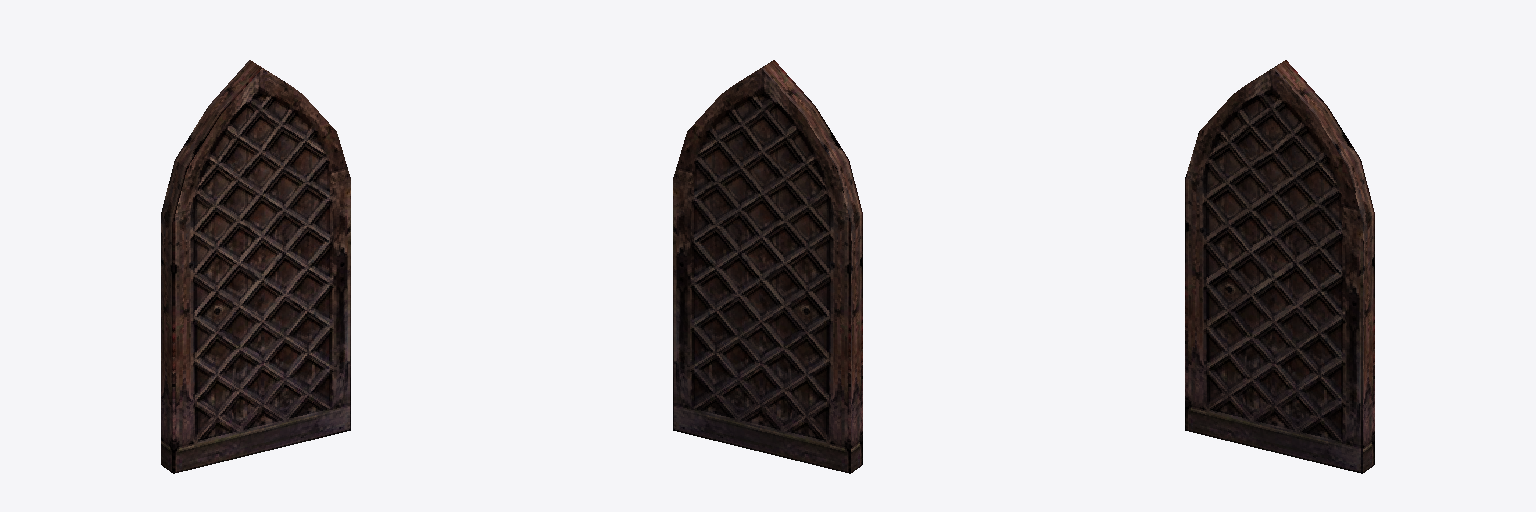
3 views of the same model, side by side, from view 1: azimuth 30°, elevation 25°; view 2: azimuth 150°, elevation 25°; view 3: azimuth 330°, elevation 25° (orthographic).
Parts seen in each view (by area): view 1: Object002; view 2: Object002; view 3: Object002.
Part boxes in pixels (bbox=[...]): Object002: bbox=[161, 60, 350, 473]; Object002: bbox=[673, 60, 862, 473]; Object002: bbox=[1185, 60, 1374, 473].
Size of the model in its own units: 909 by 1874 by 109.
Materials: 1 (1 with a texture image).